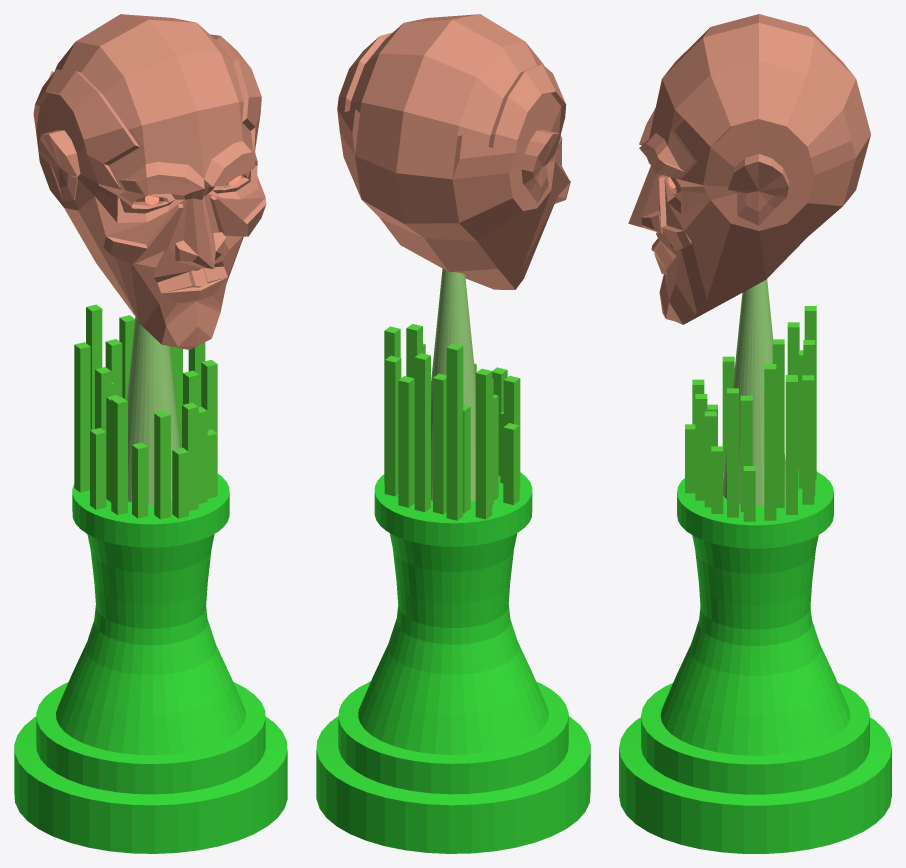
File: wizardcolourtest.glb
3 views of the same model, side by side, from view 1: azimuth 30°, elevation 25°; view 2: azimuth 150°, elevation 25°; view 3: azimuth 270°, elevation 25° (orthographic).
Visible parts, largest first — view 1: Cylinder, Sphere.001, buildings, Cone; view 2: Cylinder, Sphere.001, buildings, Cone; view 3: Cylinder, Sphere.001, buildings, Cone.
Part boxes in pixels (x1,y1,x2,y2): Cylinder: [14, 474, 287, 853]; Sphere.001: [33, 14, 266, 349]; buildings: [74, 304, 217, 519]; Cone: [127, 317, 179, 504]; Cylinder: [316, 472, 590, 853]; Sphere.001: [337, 14, 570, 289]; buildings: [384, 324, 520, 520]; Cone: [431, 268, 475, 501]; Cylinder: [619, 470, 891, 853]; Sphere.001: [628, 14, 870, 324]; buildings: [685, 306, 816, 521]; Cone: [723, 279, 785, 505].
Bounding box in the file's own units: 3.22 × 10.1 × 3.23.
